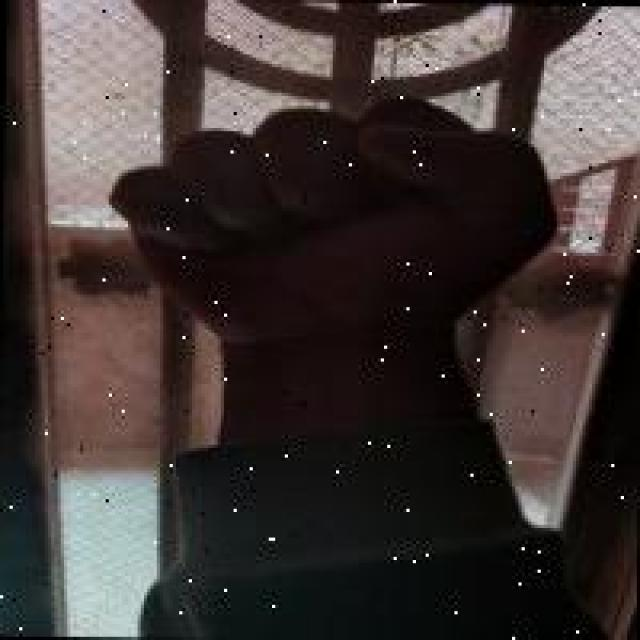S: (99, 90, 563, 320)
